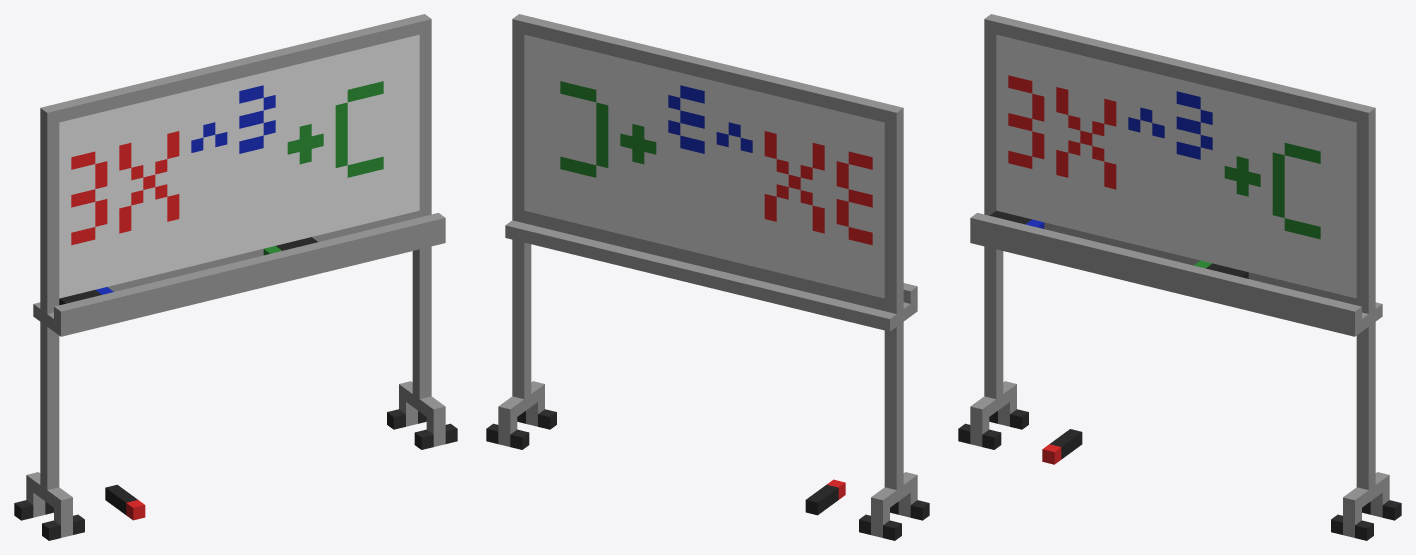
File: Deck(3x^3+const).obj
3 renders of one model, left to right at view 1: azimuth 30°, elevation 25°; view 2: azimuth 150°, elevation 25°; view 3: azimuth 330°, elevation 25°, orthographic.
Bounding box in the file's own units: 3.4 × 3.3 × 0.5.
